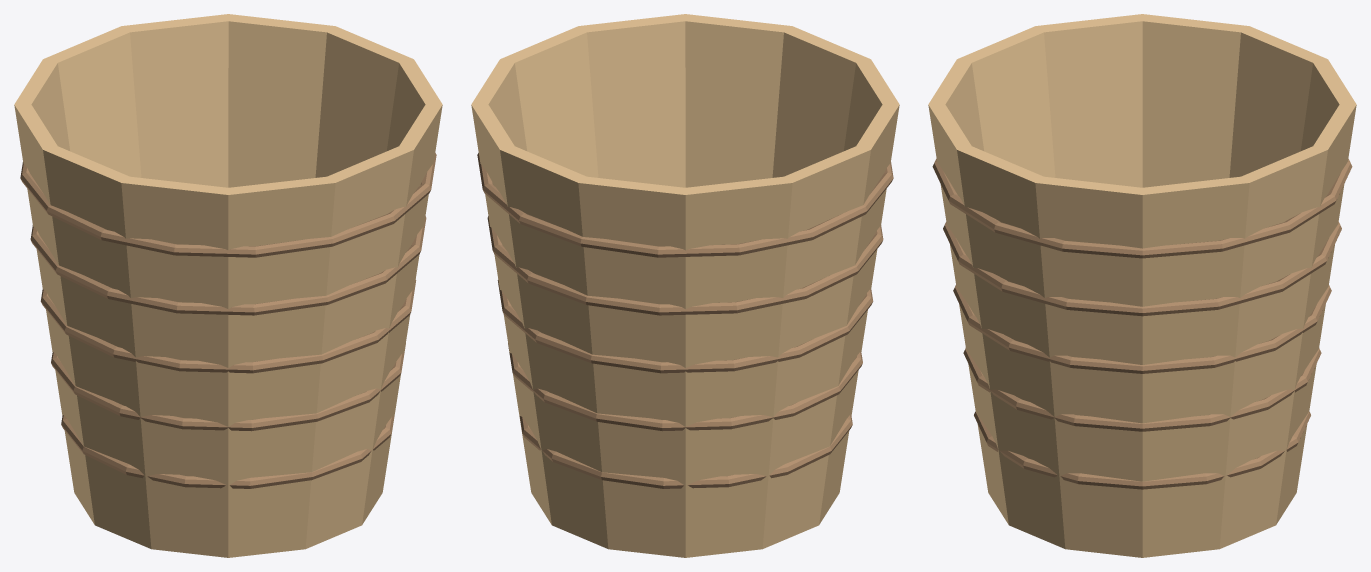
Rendered from cozy-home-interiors-laundry-basket-f9cfbe76.glb.
3 views of the same model, side by side, from view 1: azimuth 30°, elevation 25°; view 2: azimuth 150°, elevation 25°; view 3: azimuth 270°, elevation 25° (orthographic).
Parts seen in each view (by area): view 1: laundry-basket; view 2: laundry-basket; view 3: laundry-basket.
Part boxes in pixels (x1,y1,x2,y2): laundry-basket: (14, 14, 442, 557); laundry-basket: (471, 14, 899, 557); laundry-basket: (928, 14, 1356, 557).
Bounding box in the file's own units: 0.5 × 0.5 × 0.5.
